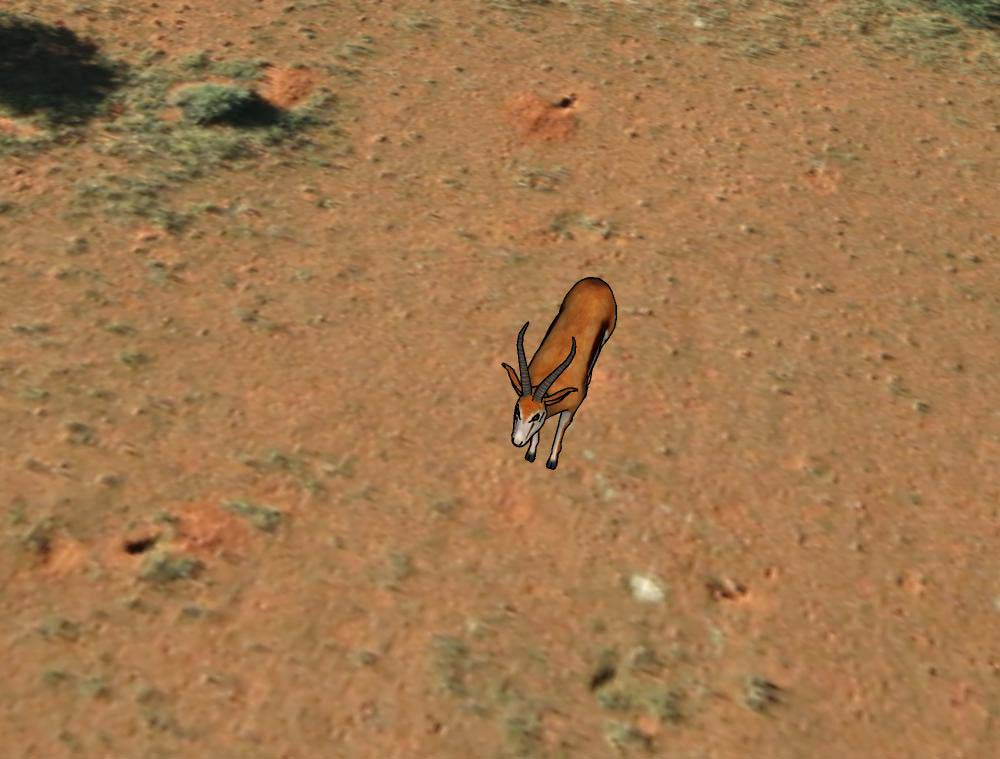springbok: (496, 275, 621, 475)
